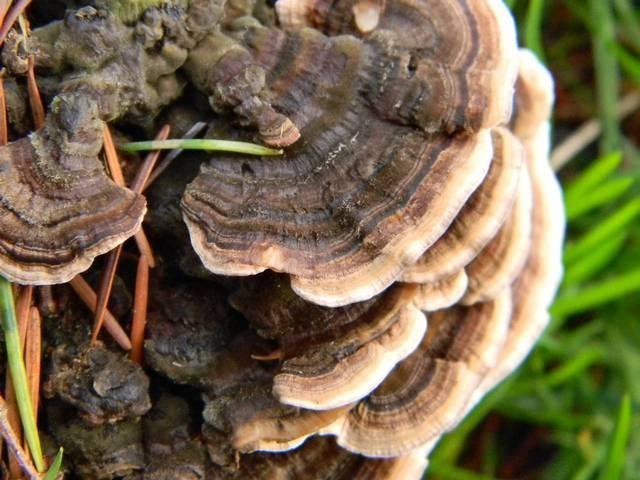poisonous_mushroom: (0, 0, 567, 479), (177, 0, 521, 309), (0, 88, 148, 287)
